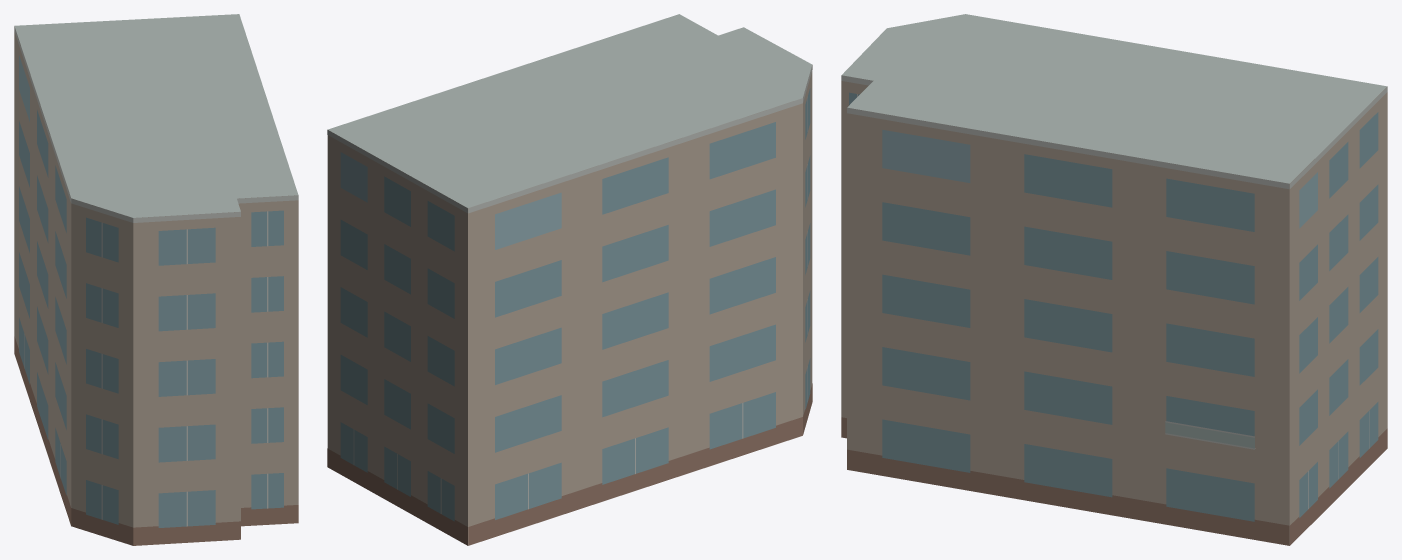
Rendered from survey-upis-32526993.glb.
3 views of the same model, side by side, from view 1: azimuth 30°, elevation 25°; view 2: azimuth 150°, elevation 25°; view 3: azimuth 270°, elevation 25° (orthographic). The views are drawn at different scales.
Parts seen in each view (by area): view 1: survey-upis-32526993.tmp; view 2: survey-upis-32526993.tmp; view 3: survey-upis-32526993.tmp.
Boxes of the visible parts, left/top/right/bottom form: survey-upis-32526993.tmp: left=14, top=14, right=298, bottom=545; survey-upis-32526993.tmp: left=327, top=14, right=812, bottom=545; survey-upis-32526993.tmp: left=841, top=14, right=1387, bottom=545.
Size of the model in its own units: 15.79 by 15.7 by 21.46.
